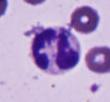N: (29, 26, 81, 76)
